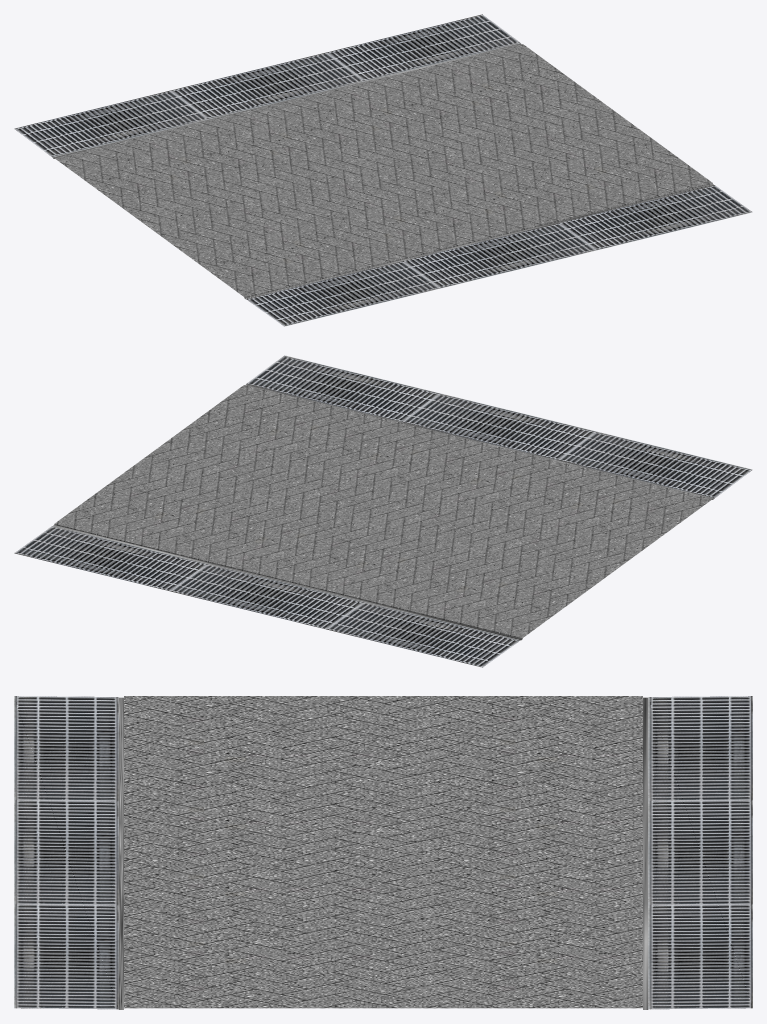
The model's file is CallePrincipal.glb.
3 views of the same model, one above another, from view 1: azimuth 30°, elevation 25°; view 2: azimuth 150°, elevation 25°; view 3: azimuth 270°, elevation 25° (orthographic). The views are drawn at different scales.
Parts seen in each view (by area): view 1: Plane; view 2: Plane; view 3: Plane.
Part boxes in pixels (left/top/right/bottom): Plane: left=14, top=14, right=752, bottom=326; Plane: left=14, top=355, right=752, bottom=667; Plane: left=14, top=696, right=752, bottom=1009.
Size of the model in its own units: 2 by 0.00429 by 2.
2 materials, 2 textured.
